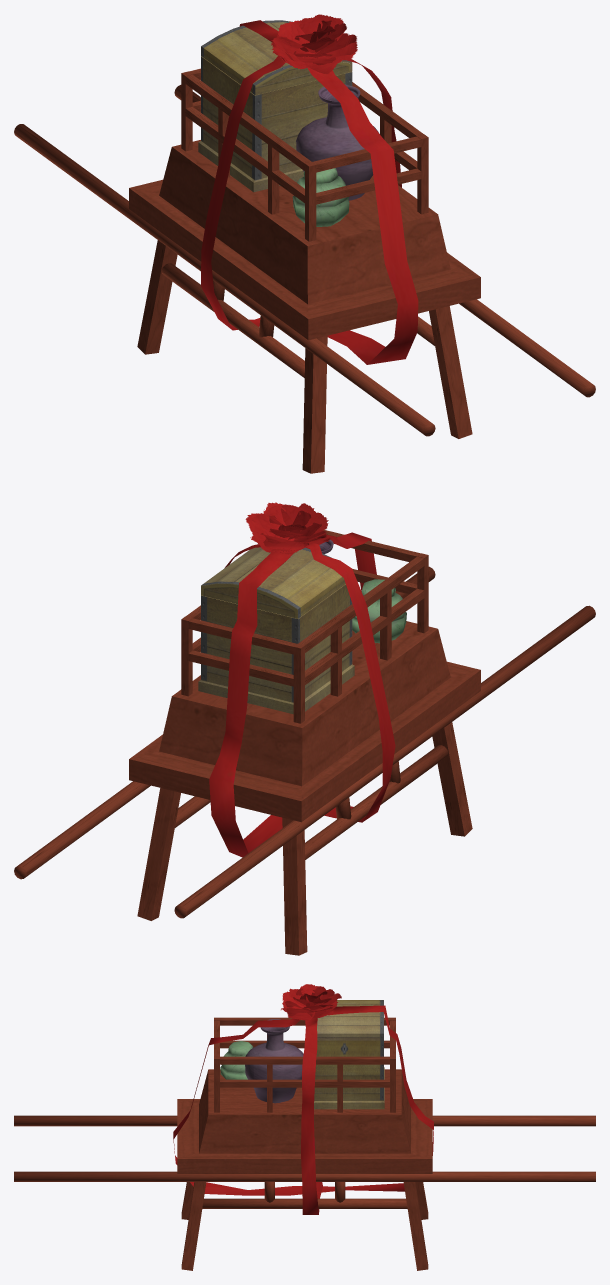
File: FC_N592_B_Dowry_B.fbx
The picture shows the model from 3 angles, top to bottom: view 1: azimuth 30°, elevation 25°; view 2: azimuth 150°, elevation 25°; view 3: azimuth 270°, elevation 25°; orthographic projection. The views are drawn at different scales.
Parts seen in each view (by area): view 1: Dowry_B; view 2: Dowry_B; view 3: Dowry_B.
Boxes of the visible parts, x1=… form: Dowry_B: x1=14, y1=14, x2=595, y2=473; Dowry_B: x1=14, y1=502, x2=595, y2=955; Dowry_B: x1=14, y1=984, x2=595, y2=1270.
Size of the model in its own units: 70.95 by 130 by 265.
